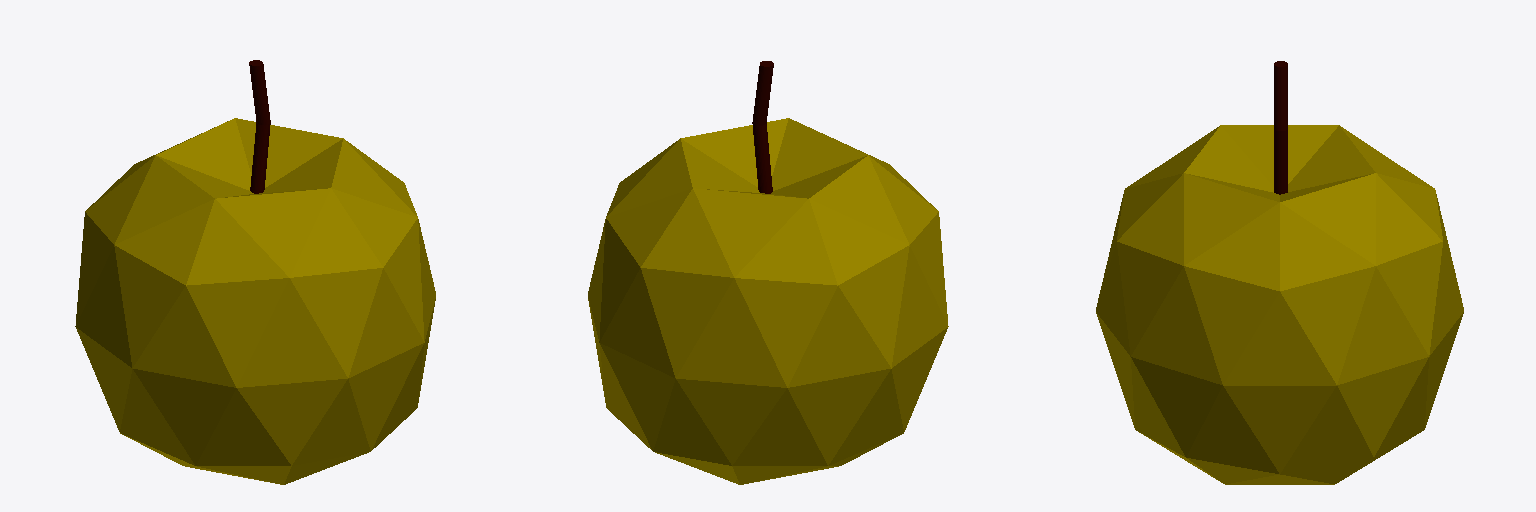
File: golden-apple0001.obj
3 views of the same model, side by side, from view 1: azimuth 30°, elevation 25°; view 2: azimuth 150°, elevation 25°; view 3: azimuth 270°, elevation 25° (orthographic).
Parts seen in each view (by area): view 1: Icosphere, Cylinder; view 2: Icosphere, Cylinder; view 3: Icosphere, Cylinder.
Boxes of the visible parts, x1=… form: Icosphere: x1=75, y1=118, x2=435, y2=484; Cylinder: x1=249, y1=60, x2=270, y2=193; Icosphere: x1=588, y1=118, x2=948, y2=484; Cylinder: x1=752, y1=61, x2=773, y2=193; Icosphere: x1=1096, y1=125, x2=1463, y2=484; Cylinder: x1=1274, y1=61, x2=1287, y2=194.
Bounding box in the file's own units: 1.96 × 2.37 × 2.06.